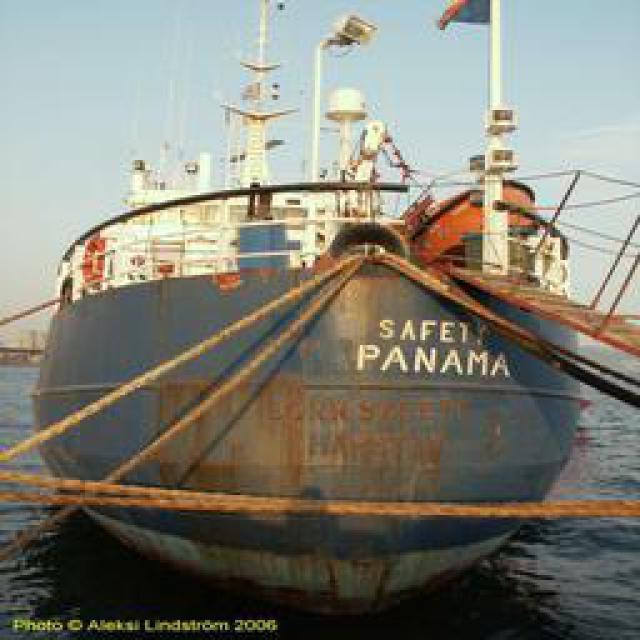Ship: (18, 154, 626, 617)
